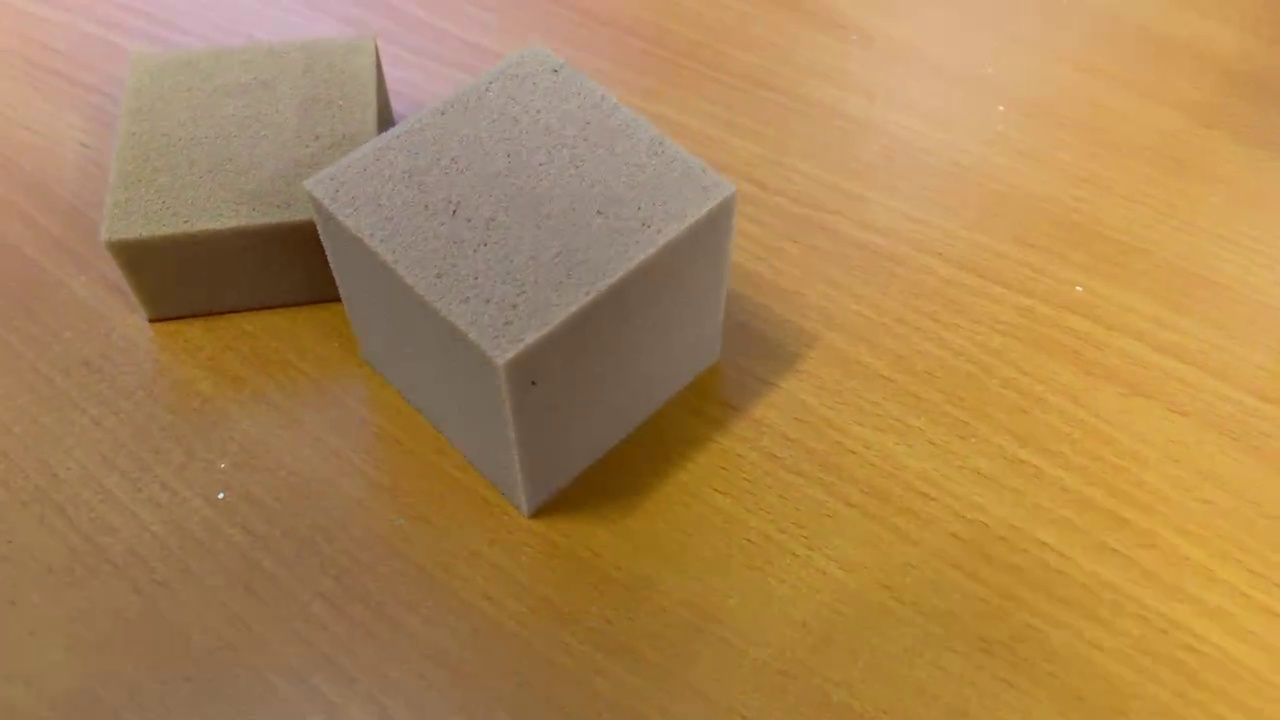Cube: (289, 29, 744, 527)
Cube_short: (96, 31, 392, 325)
